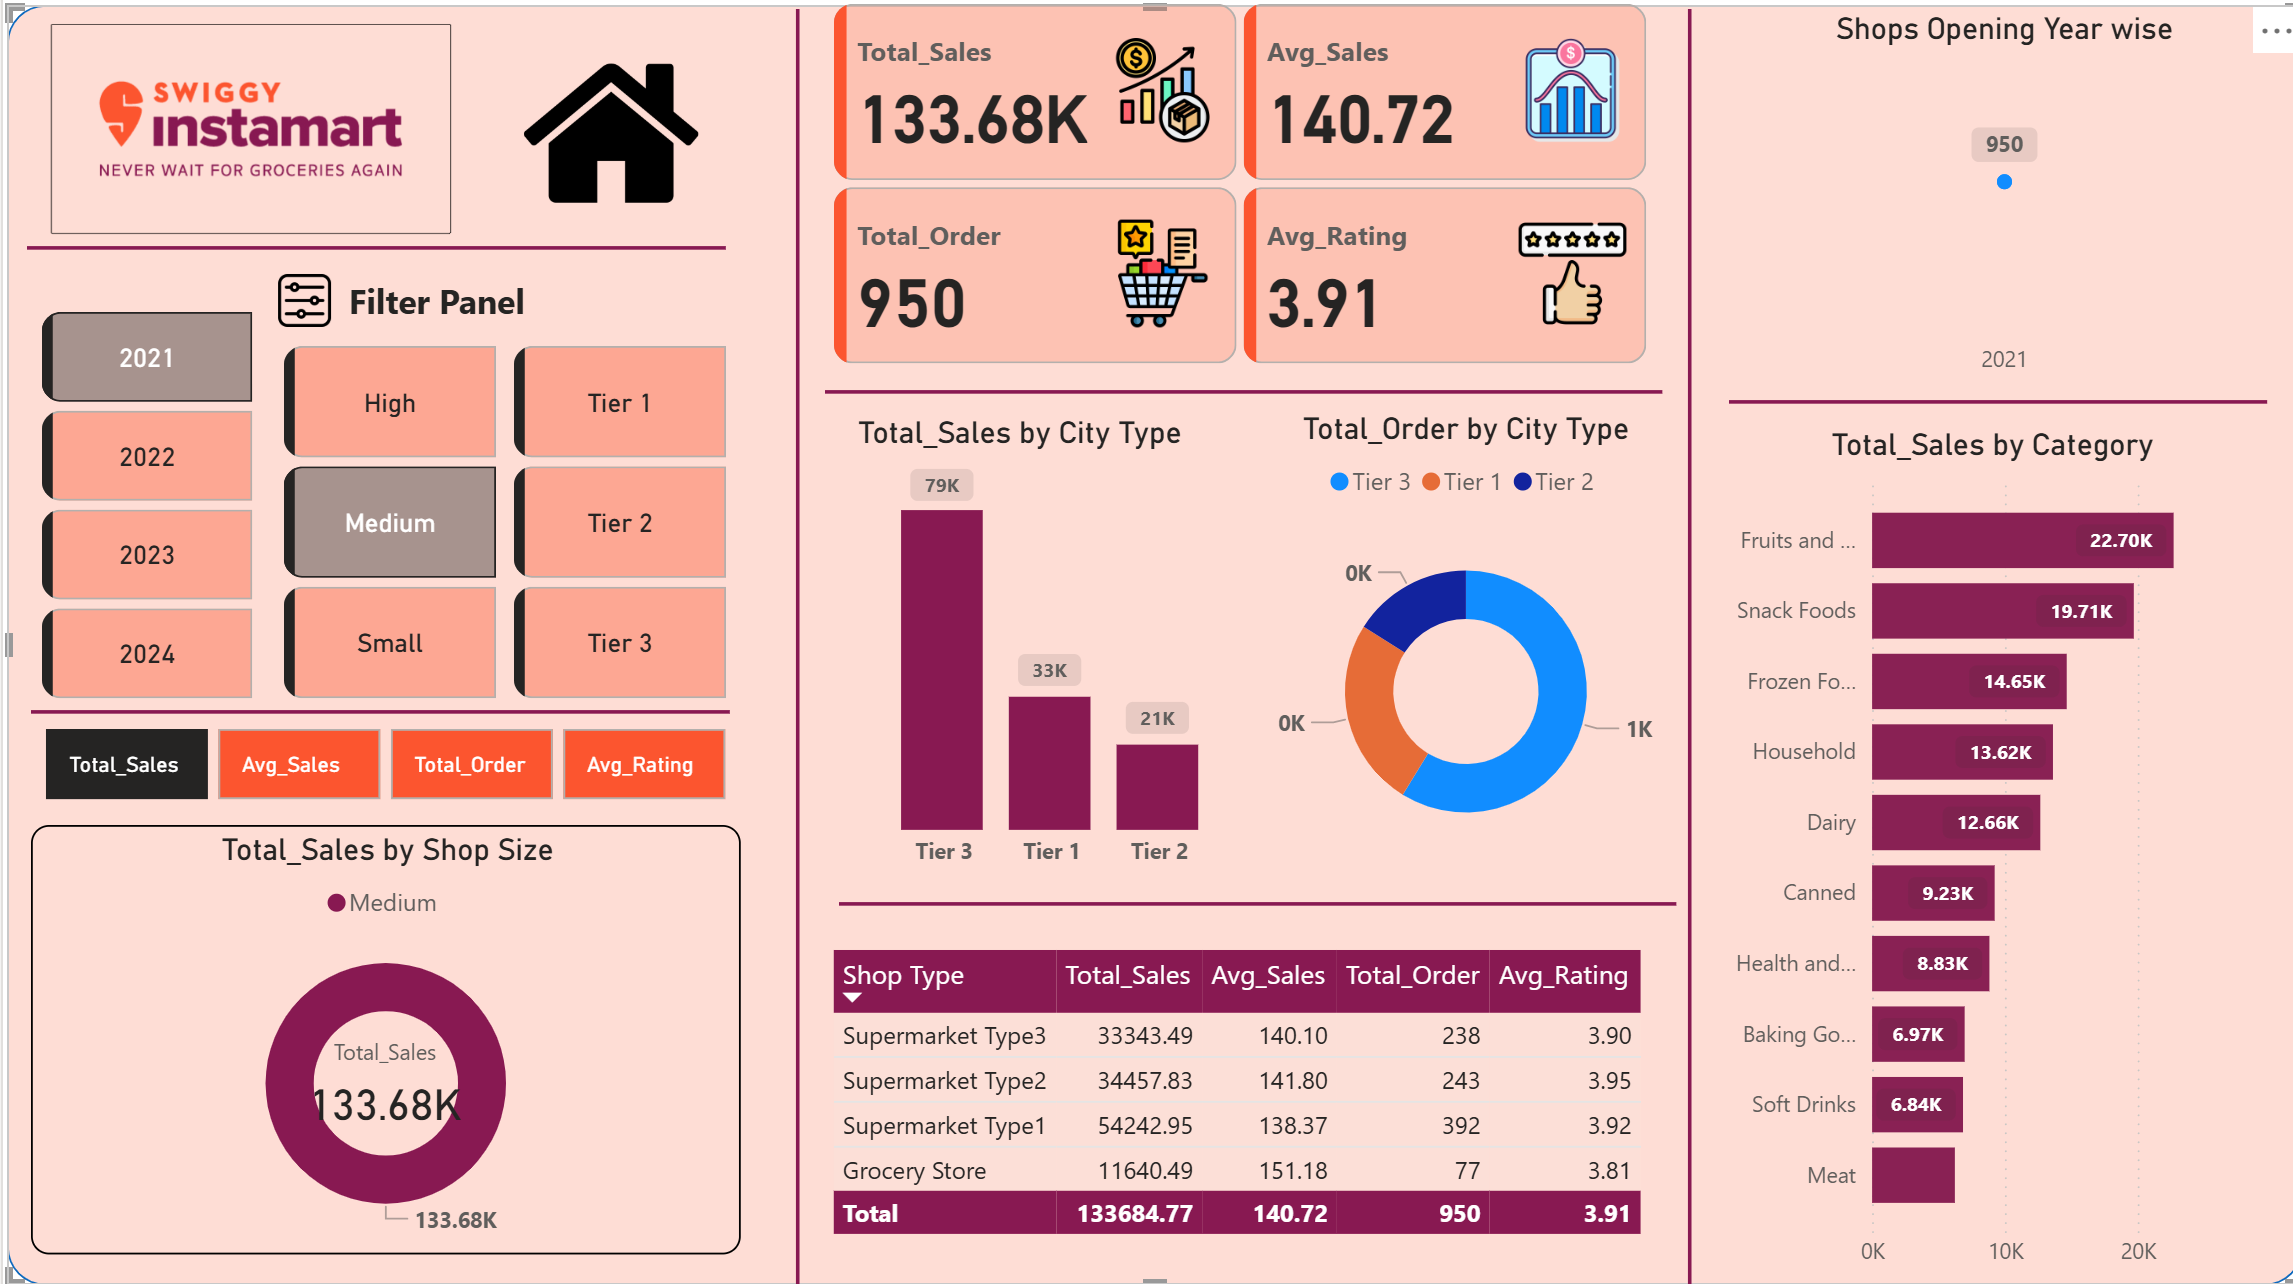

This screenshot's page, from the dashboard's own definition file:
{"tool":"powerbi","page":{"name":"INSTA MART DASHBOARD","canvas":[1280,720],"ordinal":0},"visuals":[{"type":"shape","box":[2.2,7.4,1277.8,712.6],"z":0},{"type":"image","box":[15.7,13.3,244.7,126.8],"z":1000},{"type":"cardVisual","fields":{"Data":["Grocery Shop.Total_Sales","Grocery Shop.Avg_Sales","Grocery Shop.Total_Order","Grocery Shop.Avg_Rating"]},"box":[457.7,2.4,462.6,210.2],"z":2000},{"type":"advancedSlicerVisual","fields":{"Values":["Metric.Metric"]},"box":[19.3,410.6,391.3,39.9],"z":3000},{"type":"donutChart","fields":{"Y":["Grocery Shop.Avg_Rating"],"Category":["Grocery Shop.Shop Size"]},"box":[15.7,464,394.9,238.9],"z":4000},{"type":"cardVisual","fields":{"Data":["Grocery Shop.Avg_Rating"]},"box":[143.7,556.8,138.9,102.7],"z":5000},{"type":"clusteredColumnChart","title":"Total_Sales by City Type","fields":{"Category":["Grocery Shop.Shop City Type"],"Y":["Grocery Shop.Total_Sales"]},"box":[471,235.5,225.9,260.9],"z":6000},{"type":"donutChart","title":"Total_Order by City Type","fields":{"Category":["Grocery Shop.Shop City Type"],"Y":["Grocery Shop.Total_Order"]},"box":[701.7,234.1,225.9,263.5],"z":7000},{"type":"tableEx","fields":{"Values":["Grocery Shop.Shop Type","Grocery Shop.Total_Sales","Grocery Shop.Avg_Sales","Grocery Shop.Total_Order","Grocery Shop.Avg_Rating"]},"box":[456.5,529,474.7,182.4],"z":8000},{"type":"lineChart","title":"Shops Opening Year wise","fields":{"Category":["Grocery Shop.Shop Opening Year"],"Y":["Grocery Shop.Total_Order"]},"box":[946.9,11.6,333.3,211.8],"z":9000},{"type":"clusteredBarChart","fields":{"Y":["Grocery Shop.Total_Sales"],"Category":["Grocery Shop.Category"]},"box":[946.9,242.8,320.1,477.1],"z":10000},{"type":"advancedSlicerVisual","fields":{"Values":["Grocery Shop.Shop Opening Year"]},"box":[16.6,173.4,127.5,228.2],"z":11000},{"type":"advancedSlicerVisual","fields":{"Values":["Grocery Shop.Shop Size"]},"box":[151.7,193,128,207.7],"z":12000},{"type":"advancedSlicerVisual","fields":{"Values":["Grocery Shop.Shop City Type"]},"box":[279.7,193,128,207.7],"z":13000},{"type":"textbox","box":[151.7,154.3,178.5,38.2],"z":14000},{"type":"image","box":[144.1,153,48.4,39.5],"z":15000},{"type":"image","box":[285,25.4,106.8,106.8],"z":18000},{"type":"shape","box":[13.5,122.5,388.9,41.1],"z":19000},{"type":"shape","box":[15.7,380.5,388.9,41.1],"z":20000},{"type":"shape","box":[422.7,9.7,38.6,710.2],"z":21000},{"type":"shape","box":[919.1,9.7,38.6,710.2],"z":22000},{"type":"shape","box":[960.2,207.7,299.5,41.1],"z":23000},{"type":"shape","box":[465,487.9,466.2,41.1],"z":24000},{"type":"shape","box":[457.7,202.9,466.2,41.1],"z":25000}]}

Visuals, with their boxes in screenshot pixels (x1, y1, x2, y2), scaled from the page's 1280x720 canvas onto the 2293x1284 screenshot:
shape: [x1=4, y1=13, x2=2292, y2=1283]
image: [x1=28, y1=24, x2=466, y2=250]
cardVisual - Grocery Shop.Total_Sales x Grocery Shop.Avg_Sales: [x1=820, y1=4, x2=1649, y2=379]
advancedSlicerVisual - Metric.Metric: [x1=35, y1=732, x2=736, y2=803]
donutChart - Grocery Shop.Avg_Rating x Grocery Shop.Shop Size: [x1=28, y1=827, x2=736, y2=1254]
cardVisual - Grocery Shop.Avg_Rating: [x1=257, y1=993, x2=506, y2=1176]
"Total_Sales by City Type" clusteredColumnChart: [x1=844, y1=420, x2=1248, y2=885]
"Total_Order by City Type" donutChart: [x1=1257, y1=417, x2=1662, y2=887]
tableEx - Grocery Shop.Shop Type x Grocery Shop.Total_Sales: [x1=818, y1=943, x2=1668, y2=1269]
"Shops Opening Year wise" lineChart: [x1=1696, y1=21, x2=2292, y2=398]
clusteredBarChart - Grocery Shop.Total_Sales x Grocery Shop.Category: [x1=1696, y1=433, x2=2270, y2=1283]
advancedSlicerVisual - Grocery Shop.Shop Opening Year: [x1=30, y1=309, x2=258, y2=716]
advancedSlicerVisual - Grocery Shop.Shop Size: [x1=272, y1=344, x2=501, y2=715]
advancedSlicerVisual - Grocery Shop.Shop City Type: [x1=501, y1=344, x2=730, y2=715]
textbox: [x1=272, y1=275, x2=592, y2=343]
image: [x1=258, y1=273, x2=345, y2=343]
image: [x1=511, y1=45, x2=702, y2=236]
shape: [x1=24, y1=218, x2=721, y2=292]
shape: [x1=28, y1=679, x2=725, y2=752]
shape: [x1=757, y1=17, x2=826, y2=1283]
shape: [x1=1646, y1=17, x2=1716, y2=1283]
shape: [x1=1720, y1=370, x2=2257, y2=444]
shape: [x1=833, y1=870, x2=1668, y2=943]
shape: [x1=820, y1=362, x2=1655, y2=435]
